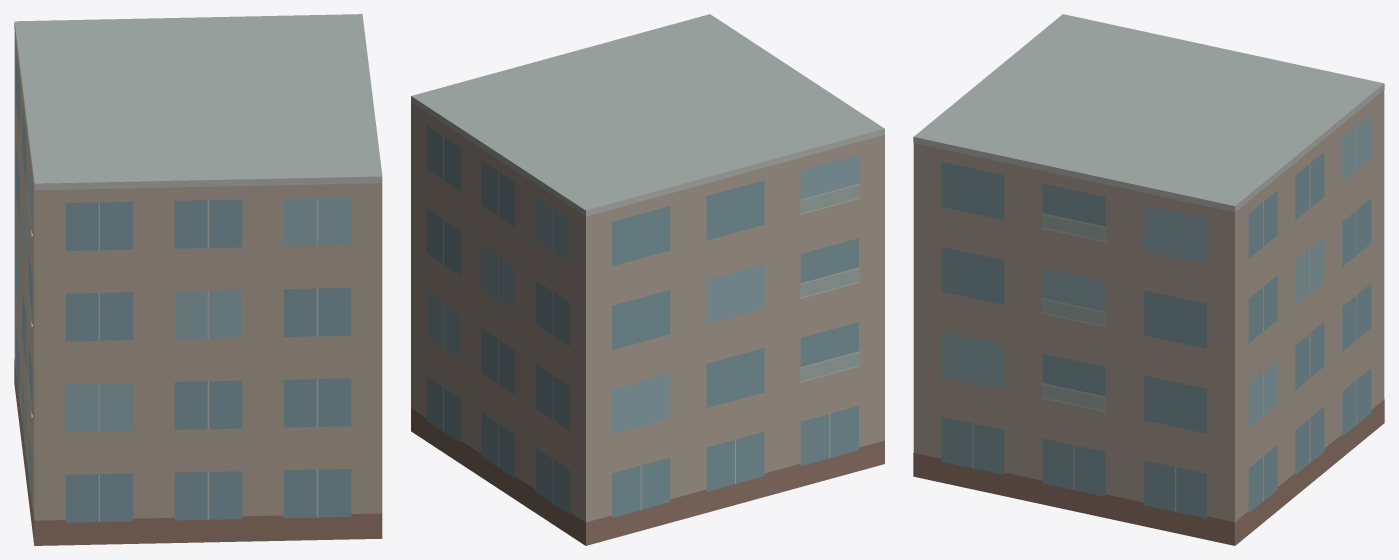
File: survey-upis-32657332.glb
3 renders of one model, left to right at view 1: azimuth 30°, elevation 25°; view 2: azimuth 150°, elevation 25°; view 3: azimuth 270°, elevation 25°, orthographic. The views are drawn at different scales.
Visible parts, largest first — view 1: survey-upis-32657332.tmp; view 2: survey-upis-32657332.tmp; view 3: survey-upis-32657332.tmp.
Boxes of the visible parts, x1,y1,x2,y2 form: survey-upis-32657332.tmp: [14, 14, 382, 545]; survey-upis-32657332.tmp: [411, 14, 884, 545]; survey-upis-32657332.tmp: [913, 14, 1384, 545].
Bounding box in the file's own units: 16.31 × 13.44 × 16.9.
